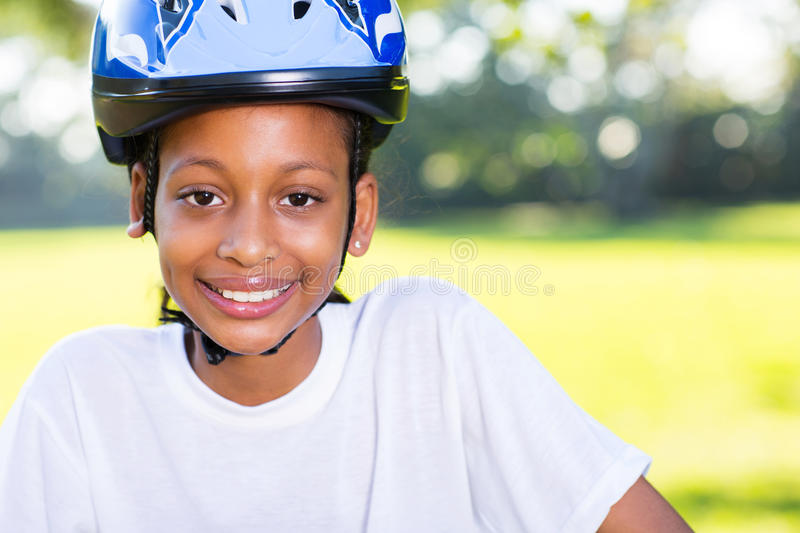helmet: (91, 1, 409, 355)
